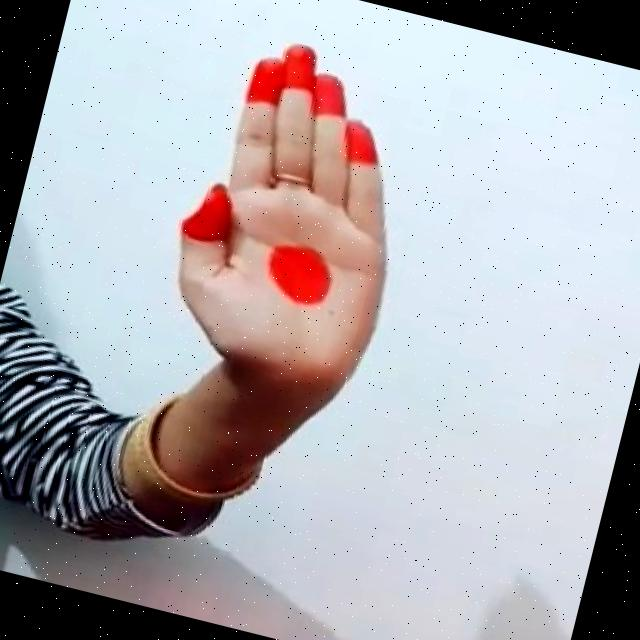Pataka: (117, 0, 482, 410)
bangle: (101, 378, 298, 532)
